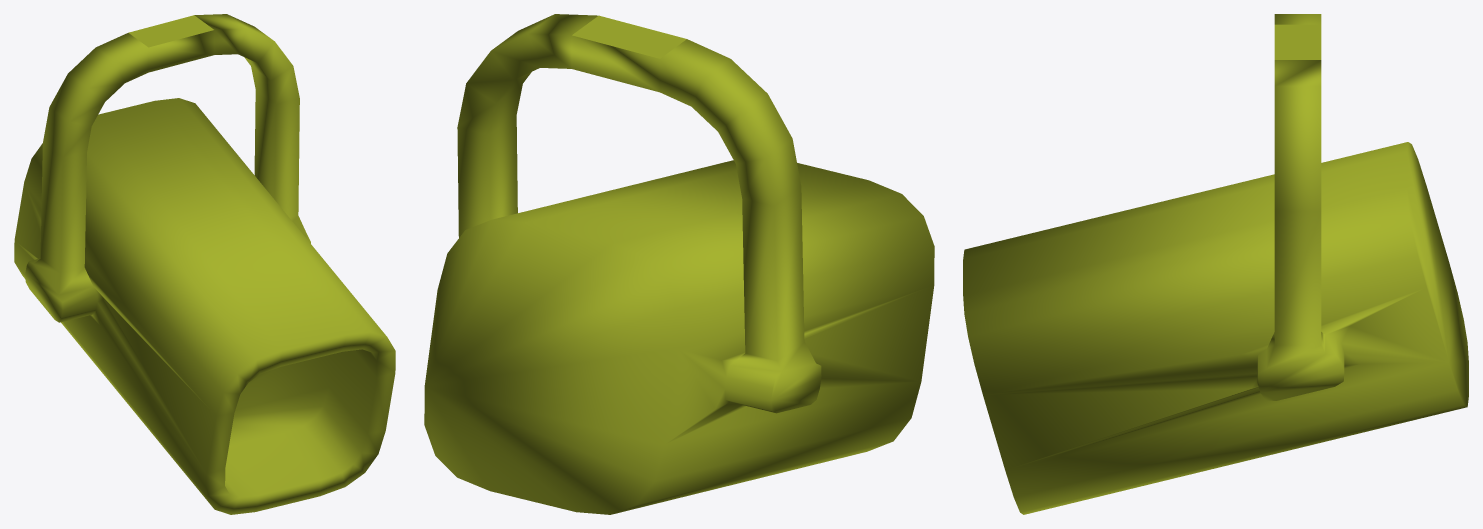
File: Spotlight.fbx
3 views of the same model, side by side, from view 1: azimuth 30°, elevation 25°; view 2: azimuth 150°, elevation 25°; view 3: azimuth 270°, elevation 25° (orthographic). The views are drawn at different scales.
Visible parts, largest first — view 1: Spotlight:Box001; view 2: Spotlight:Box001; view 3: Spotlight:Box001.
Part boxes in pixels (x1,y1,x2,y2): Spotlight:Box001: (14, 14, 395, 514); Spotlight:Box001: (424, 14, 934, 514); Spotlight:Box001: (963, 14, 1468, 514).
Bounding box in the file's own units: 5.28 × 7.85 × 8.06.
